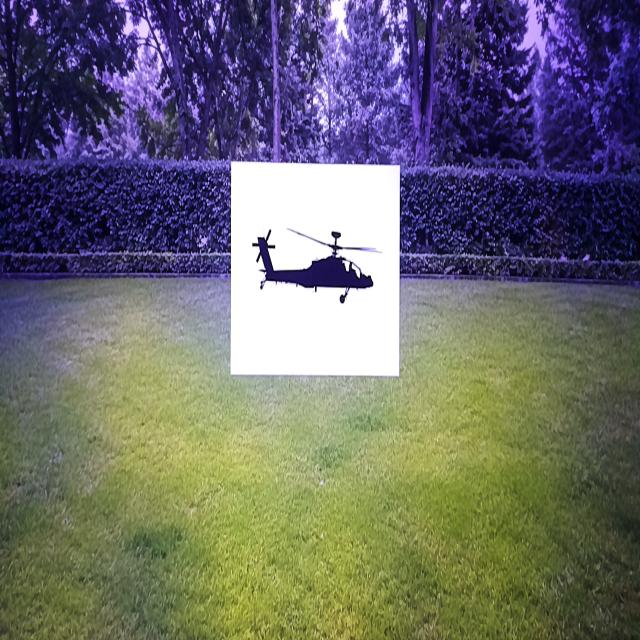Apache friendly: (253, 229, 379, 302)
